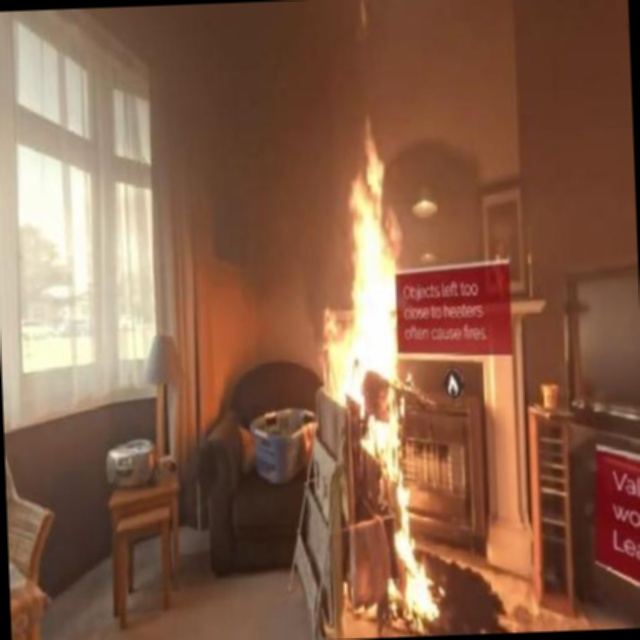fire: (307, 113, 404, 387)
